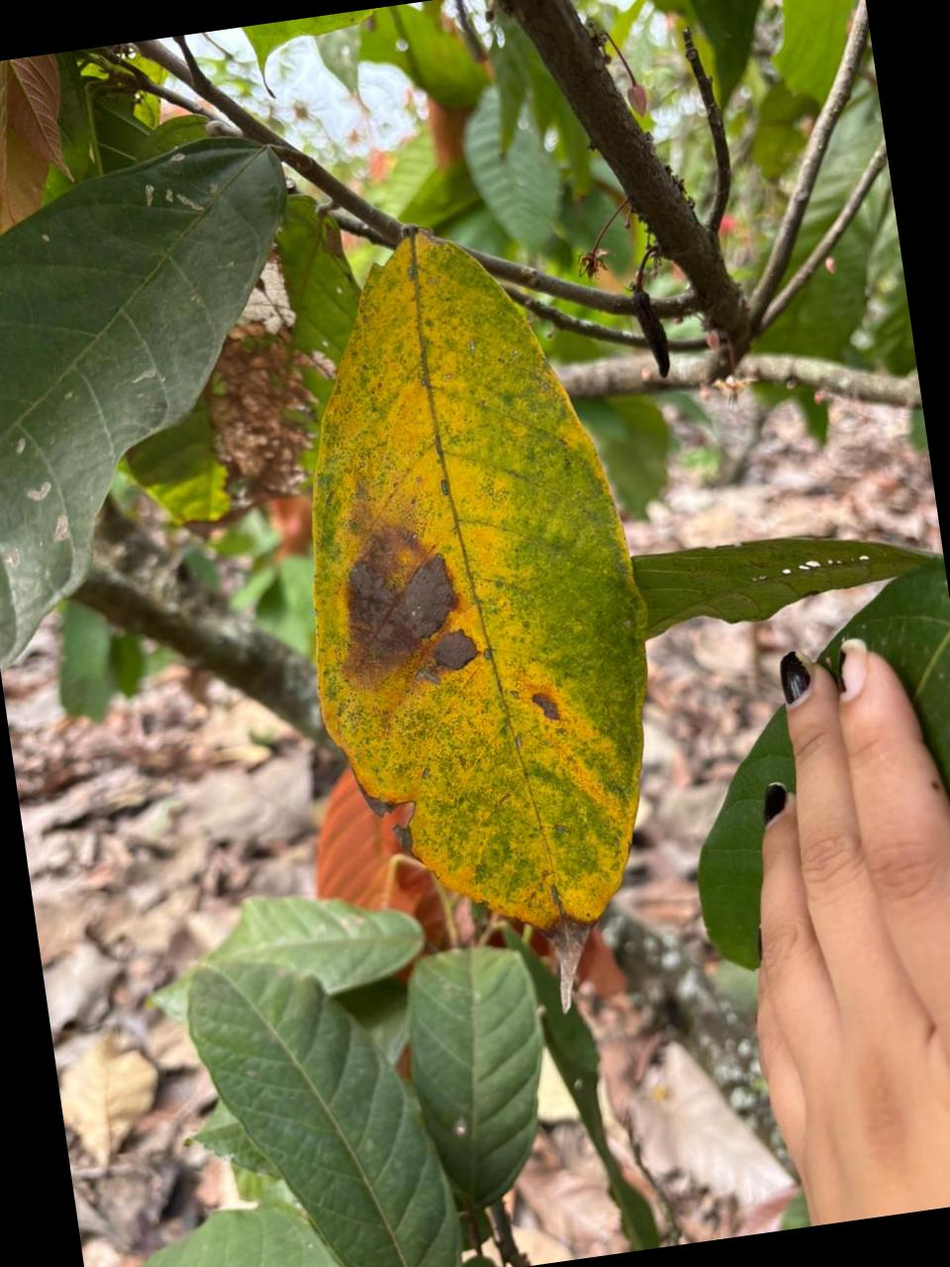Fosforo: (314, 234, 646, 936)
